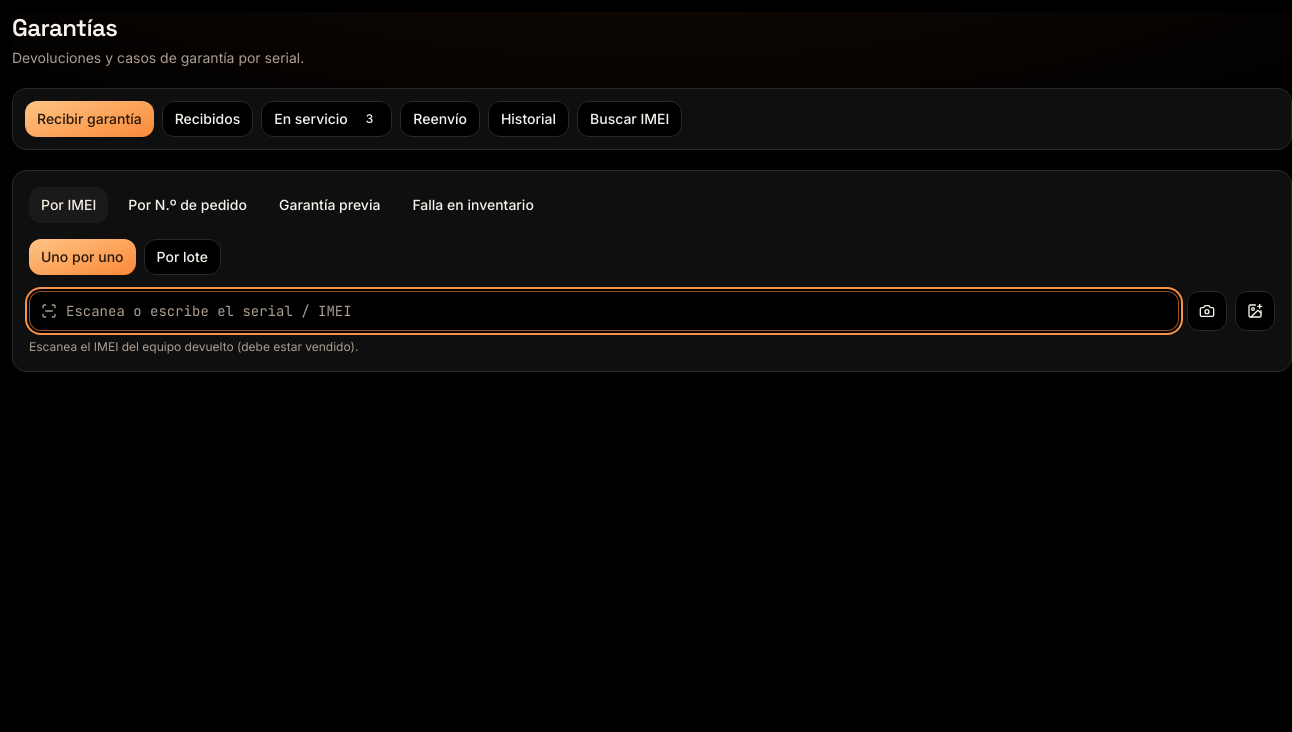
Test: Garantías · En servicio, agrupado por lote (igual que Recibidos) › el lote del pedido más viejo aparece primero, y trae sus dos casos juntos al abrirlo
Click the button "En servicio 3" at (327, 119), box [261,101,392,137]
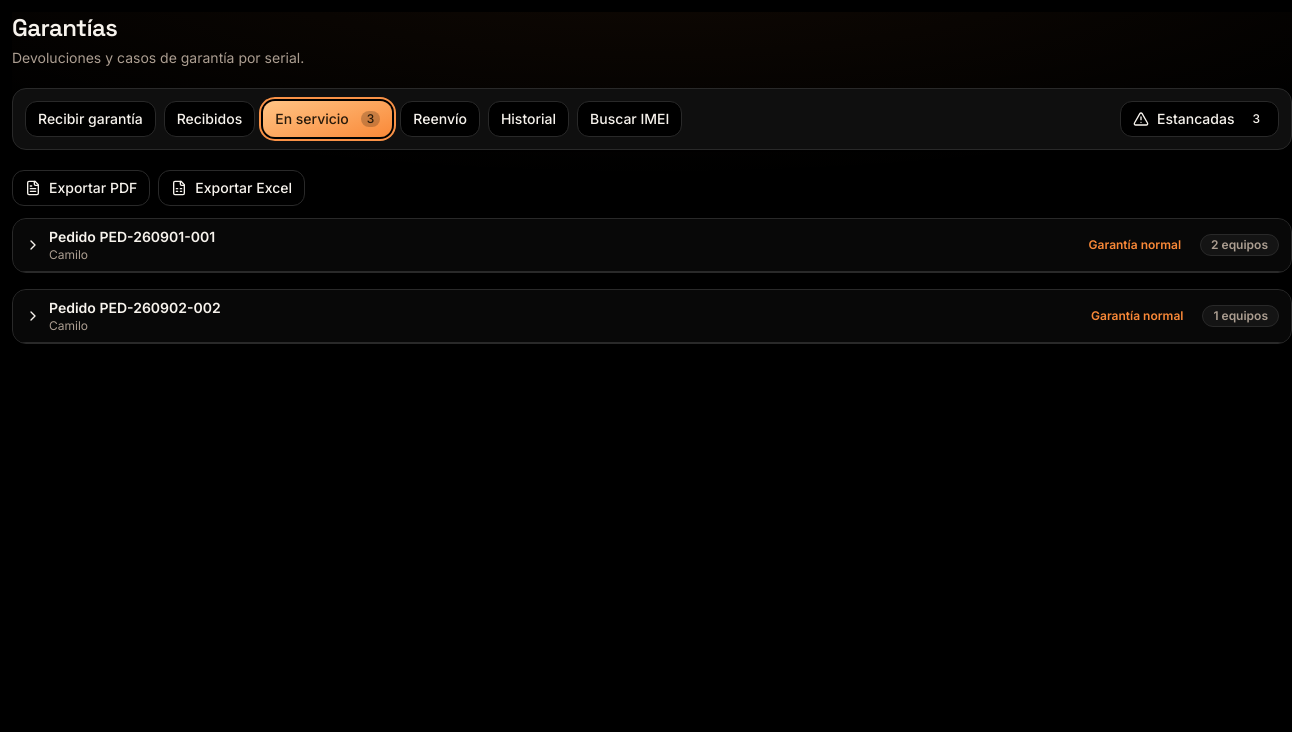
Expected: the text "PED-260901-001" is shown, [49,228,215,245]
Click the button "Pedido PED-260901-001 Camilo" at (132, 236), box [25,227,1070,263]
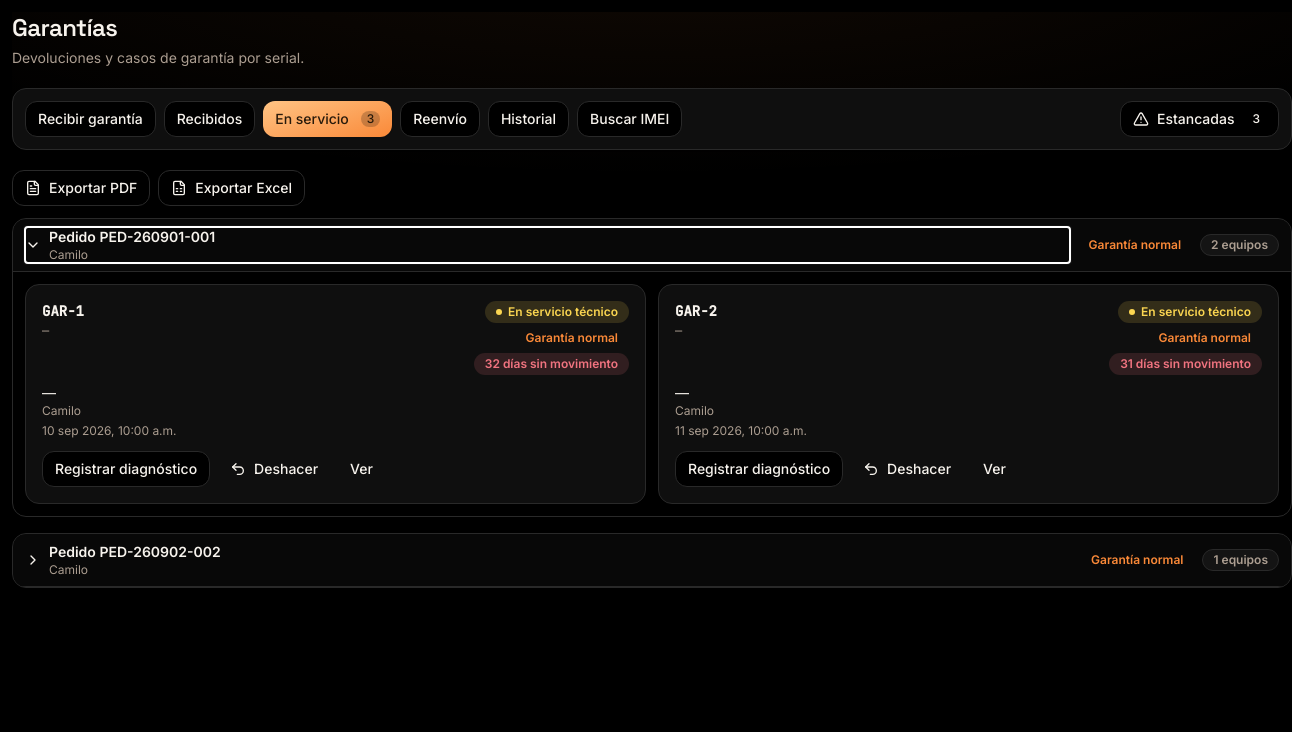
Expected: the text "GAR-1" is shown, [42,301,84,321]
Expected: the text "GAR-2" is shown, [675,301,717,321]
